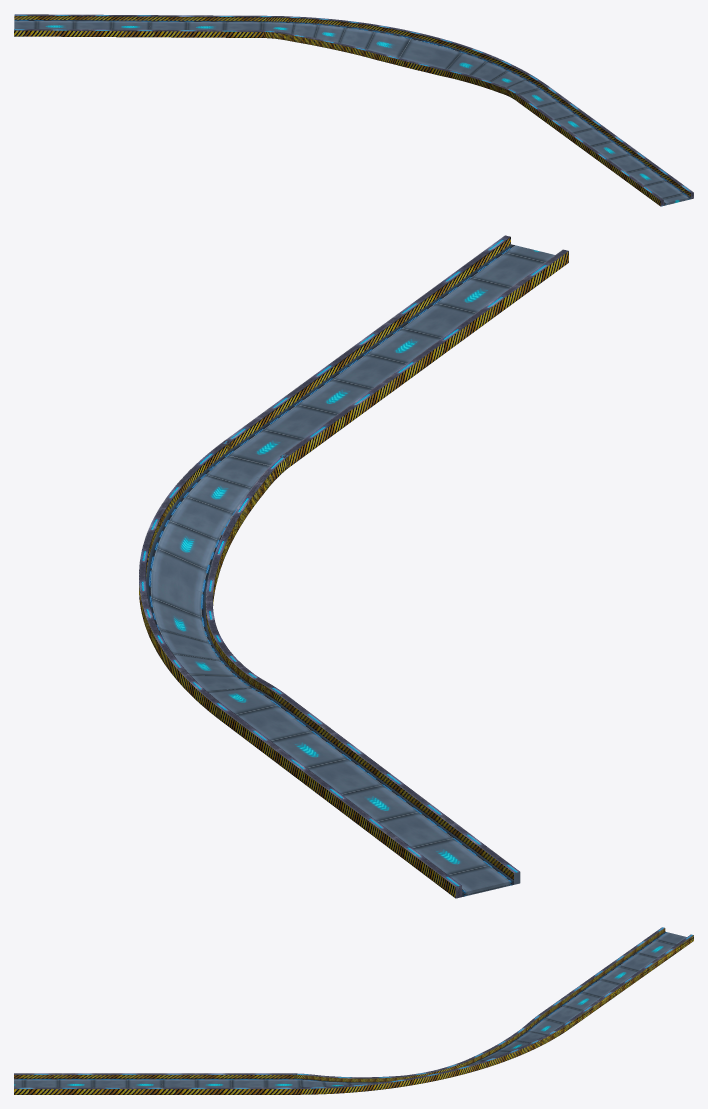
The picture shows the model from 3 angles, top to bottom: view 1: azimuth 30°, elevation 25°; view 2: azimuth 150°, elevation 25°; view 3: azimuth 270°, elevation 25°; orthographic projection. The views are drawn at different scales.
Parts seen in each view (by area): view 1: Line010; view 2: Line010; view 3: Line010.
Boxes of the visible parts, x1,y1,x2,y2 form: Line010: (14,14,693,206); Line010: (139,235,568,898); Line010: (14,927,693,1094).
Bounding box in the file's own units: 187 × 9.95 × 331.
